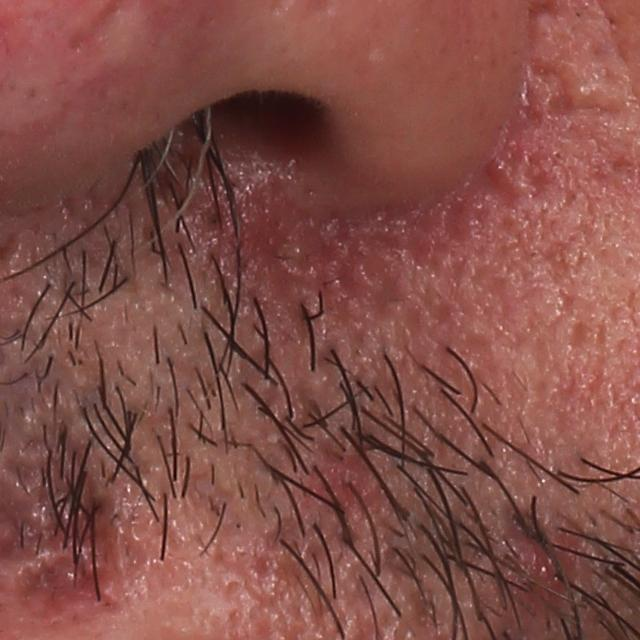atrophic_scar: (19, 551, 117, 630), (517, 56, 581, 125)
